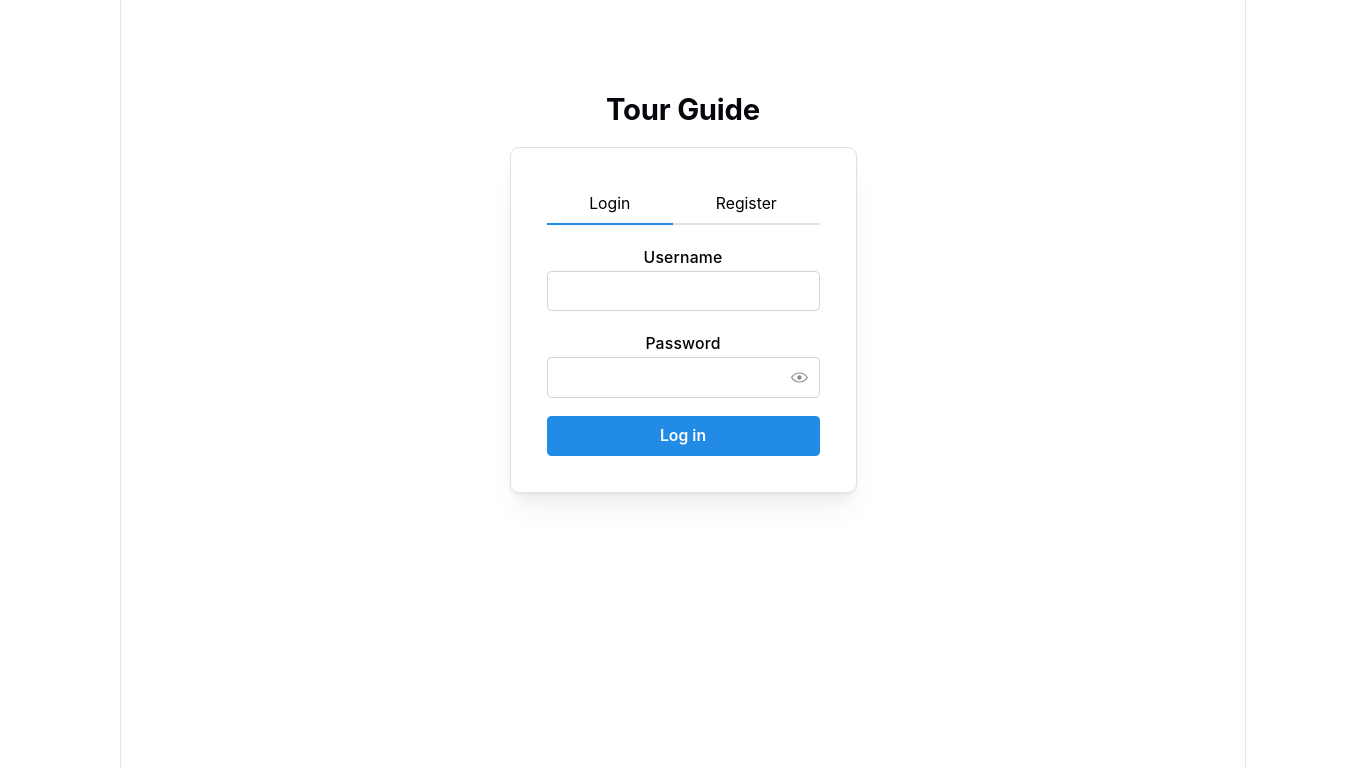
LoginPage › shows an error banner on failed login
Type "alice" into the field labelled "Username" at (683, 291), box [546,271,820,311]
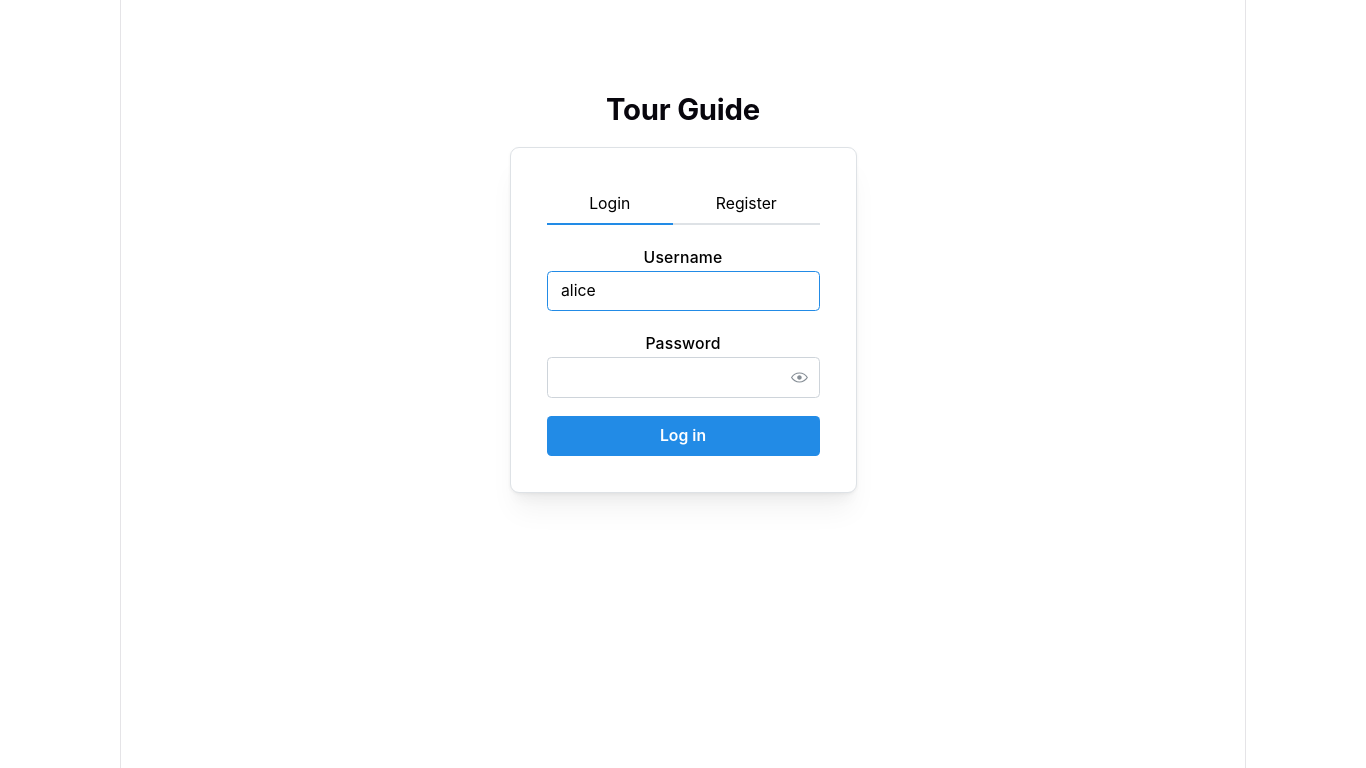
Type "wrongpass" into the password field labelled "Password" at (683, 377), box [548,358,818,396]
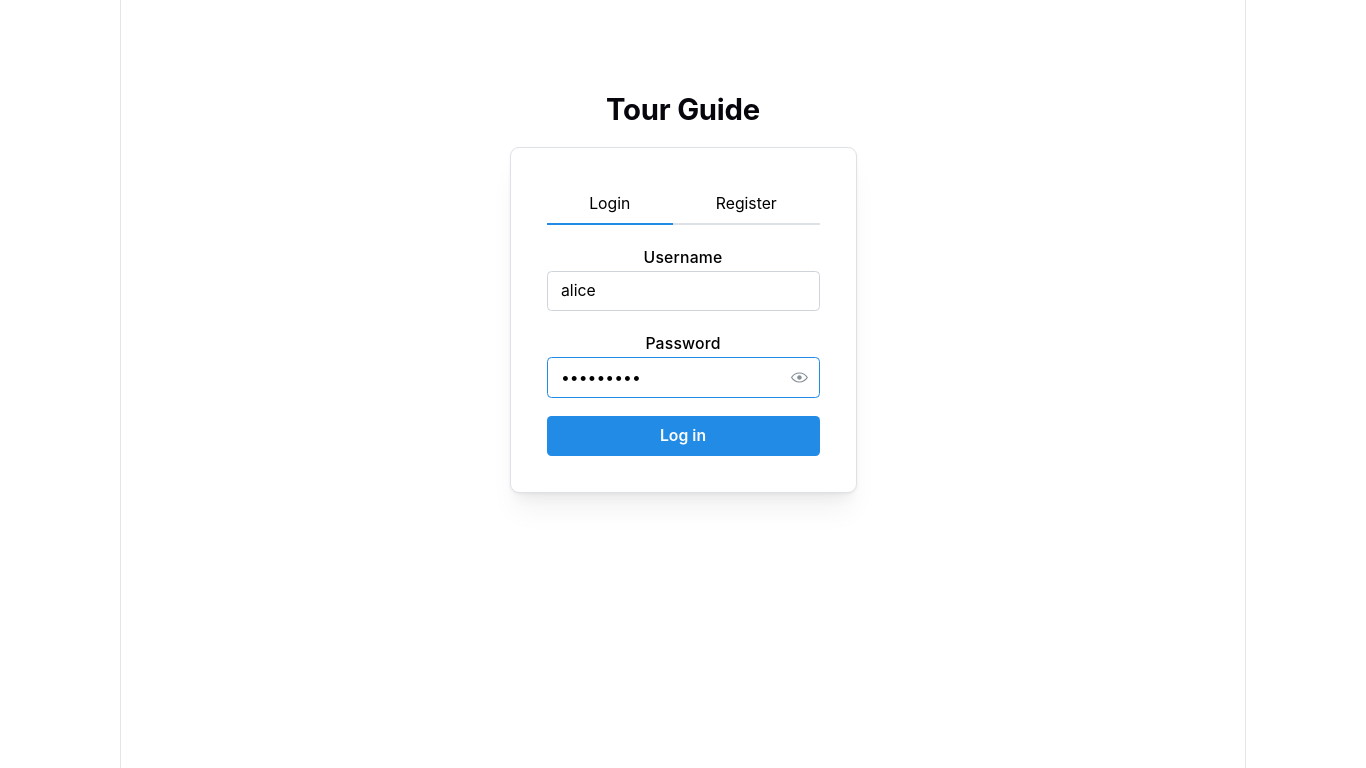
Click the button "Log in" at (683, 436), box [546,416,820,456]
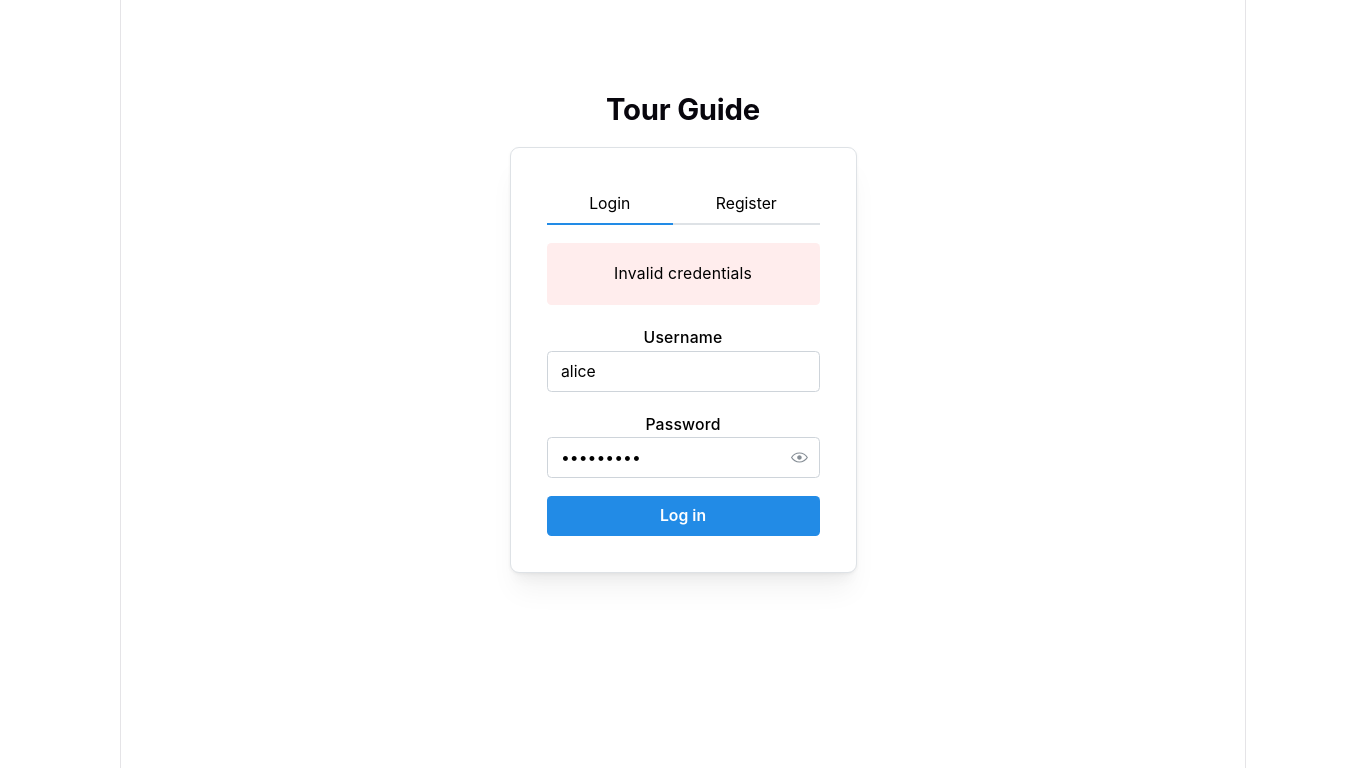
expect the text "Invalid credentials" is shown: met, box [614,264,752,283]
